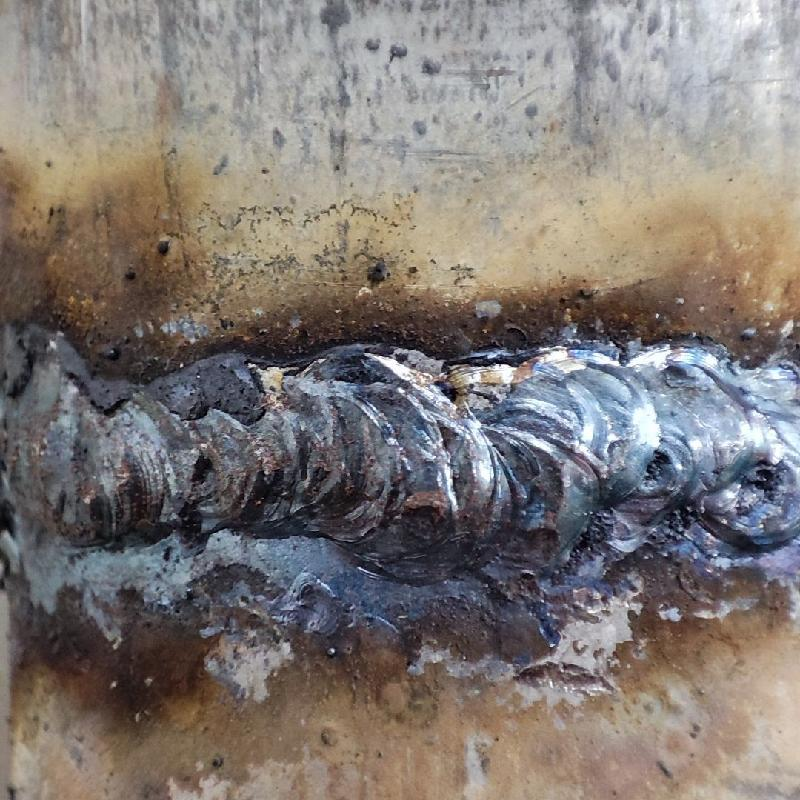Surface_pores: (175, 443, 223, 490), (745, 449, 784, 505)
good: (2, 301, 799, 562)
